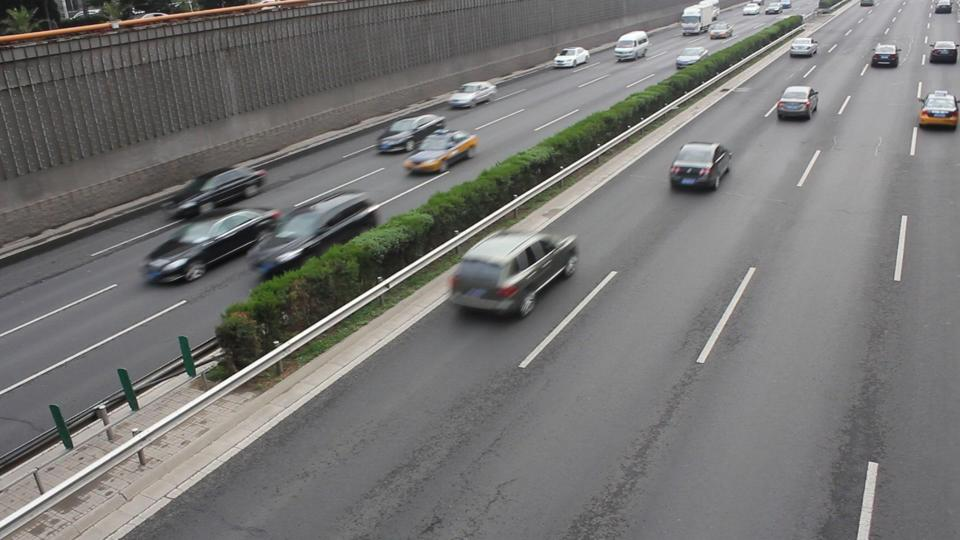Car: (445, 226, 577, 318), (244, 188, 377, 273), (139, 205, 275, 283), (163, 163, 266, 217), (401, 127, 475, 173), (667, 141, 728, 191), (375, 112, 445, 154), (916, 90, 960, 129), (773, 85, 816, 121), (446, 80, 494, 108)
